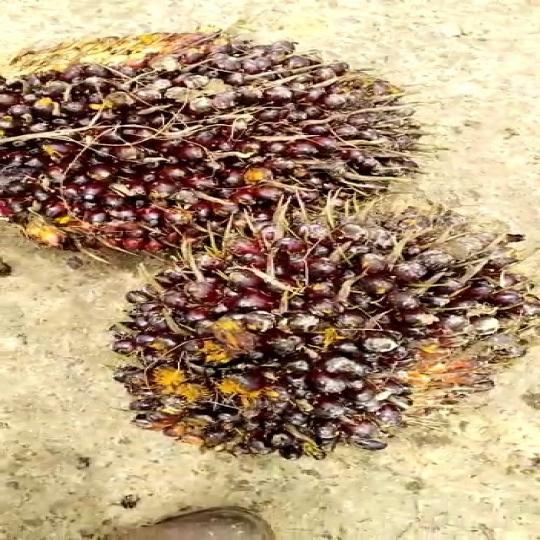kurang masak: (103, 230, 540, 458), (0, 33, 414, 251)
